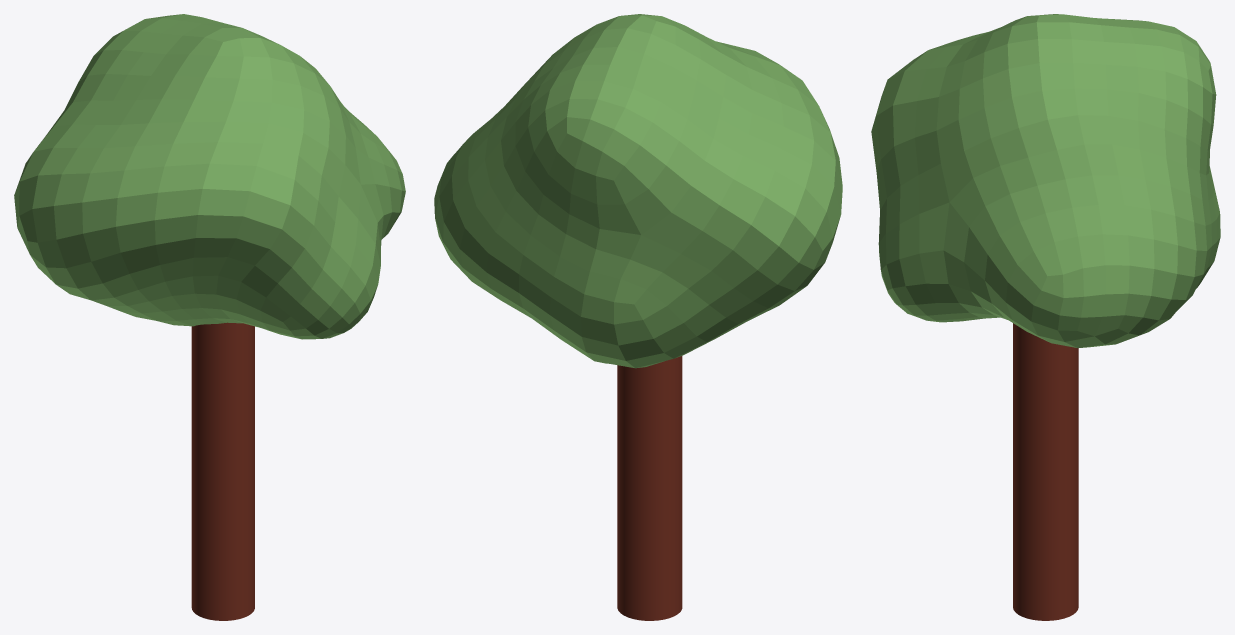
The model's file is TRee_Test.fbx.
The picture shows the model from 3 angles, left to right: view 1: azimuth 30°, elevation 25°; view 2: azimuth 150°, elevation 25°; view 3: azimuth 270°, elevation 25°; orthographic projection. The views are drawn at different scales.
Parts seen in each view (by area): view 1: Cylinder; view 2: Cylinder; view 3: Cylinder.
Part boxes in pixels (bbox=[...]): Cylinder: bbox=[14, 14, 405, 620]; Cylinder: bbox=[434, 14, 842, 620]; Cylinder: bbox=[871, 14, 1220, 620].
Size of the model in its own units: 266 by 397 by 212.
